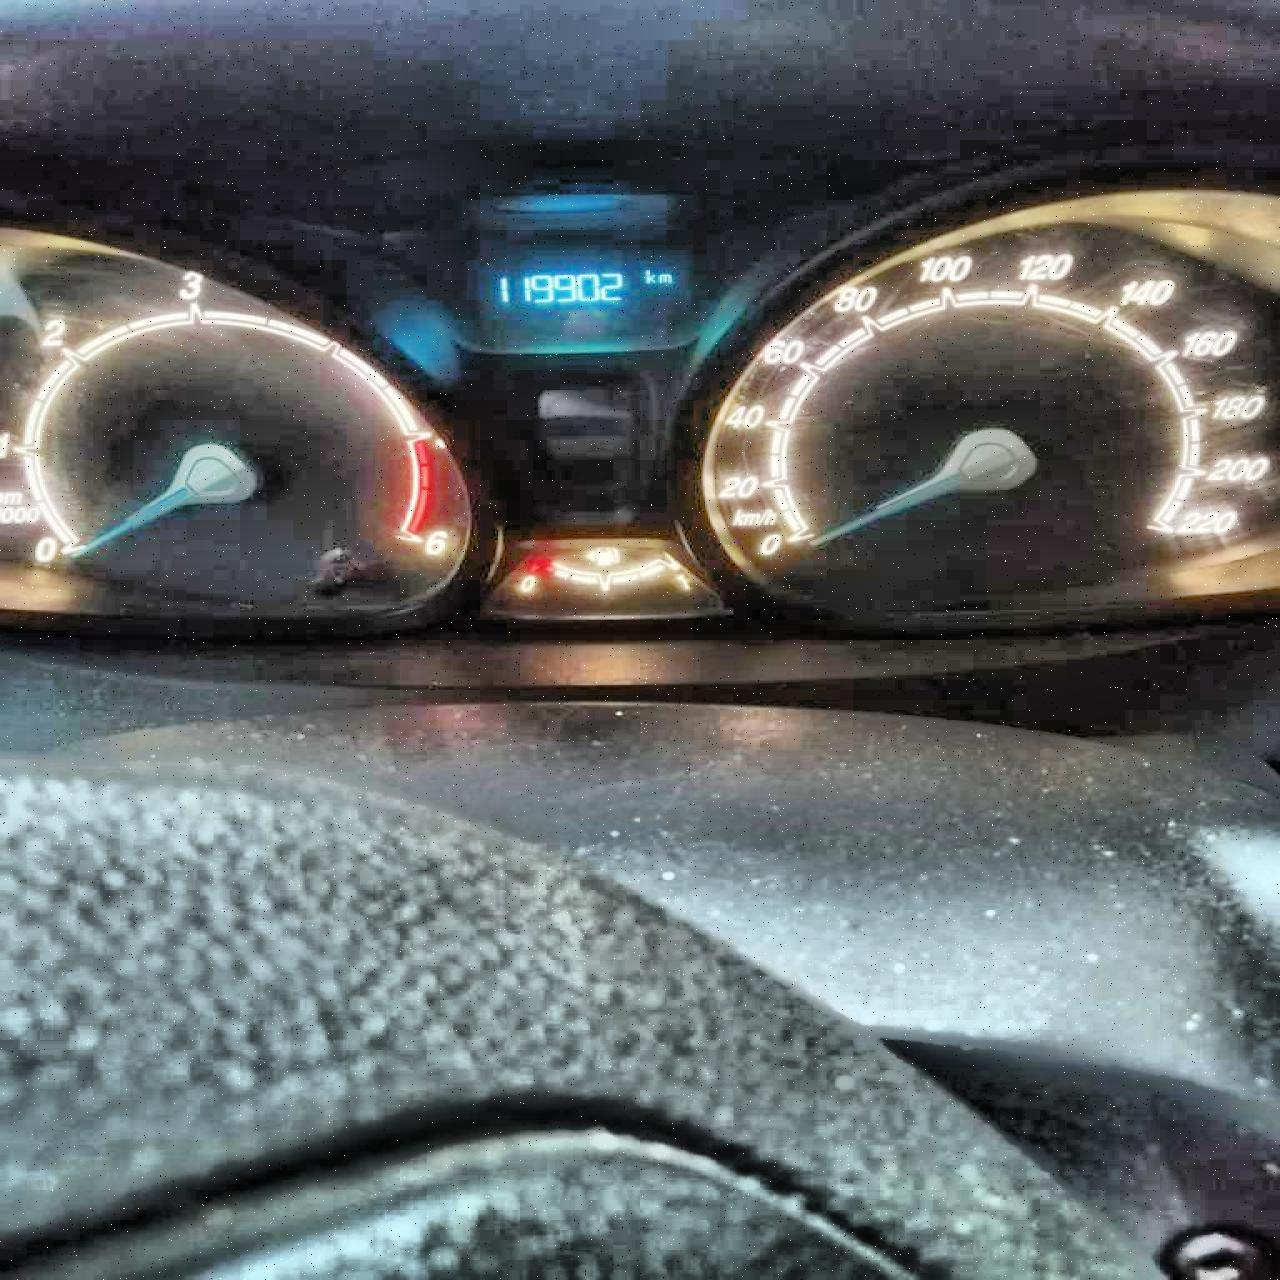0: (577, 272, 598, 302)
1: (492, 270, 510, 306), (520, 272, 530, 307)
2: (600, 268, 621, 306)
9: (530, 272, 552, 304), (553, 272, 574, 304)
X: (641, 266, 655, 284), (659, 272, 672, 284)
odometer: (482, 256, 686, 325)
